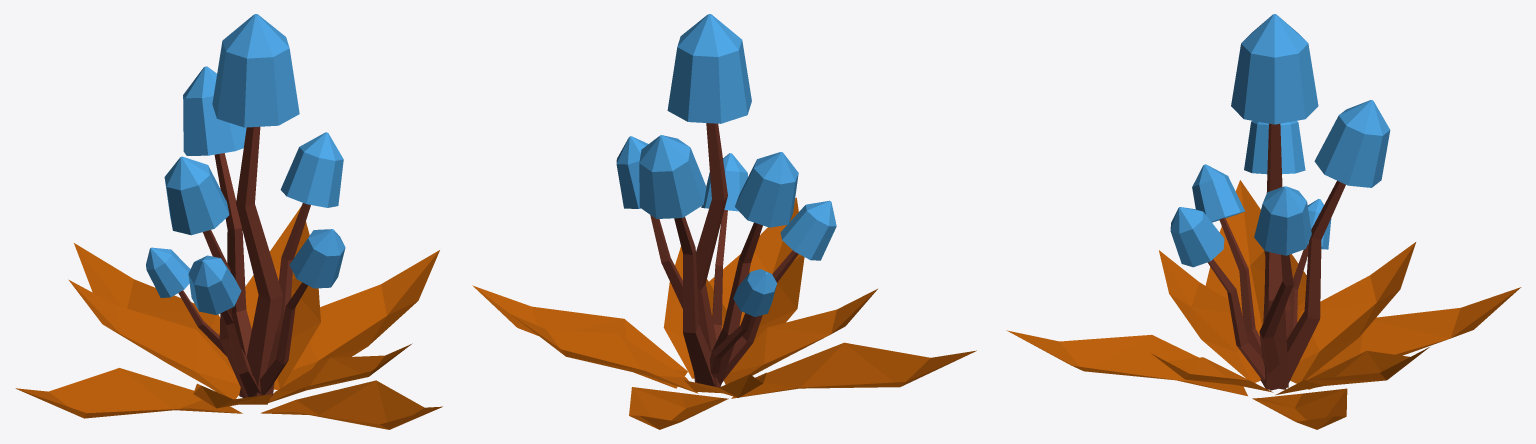
The model's file is SM_AlienSpore_Cluster.fbx.
3 renders of one model, left to right at view 1: azimuth 30°, elevation 25°; view 2: azimuth 150°, elevation 25°; view 3: azimuth 270°, elevation 25°, orthographic. The views are drawn at different scales.
Visible parts, largest first — view 1: SM_AlienSpore_Cluster; view 2: SM_AlienSpore_Cluster; view 3: SM_AlienSpore_Cluster.
Boxes of the visible parts, left/top/right/bottom form: SM_AlienSpore_Cluster: left=15, top=14, right=442, bottom=429; SM_AlienSpore_Cluster: left=472, top=14, right=976, bottom=429; SM_AlienSpore_Cluster: left=1006, top=14, right=1521, bottom=429.
Size of the model in its own units: 79.96 by 62.11 by 77.74.
